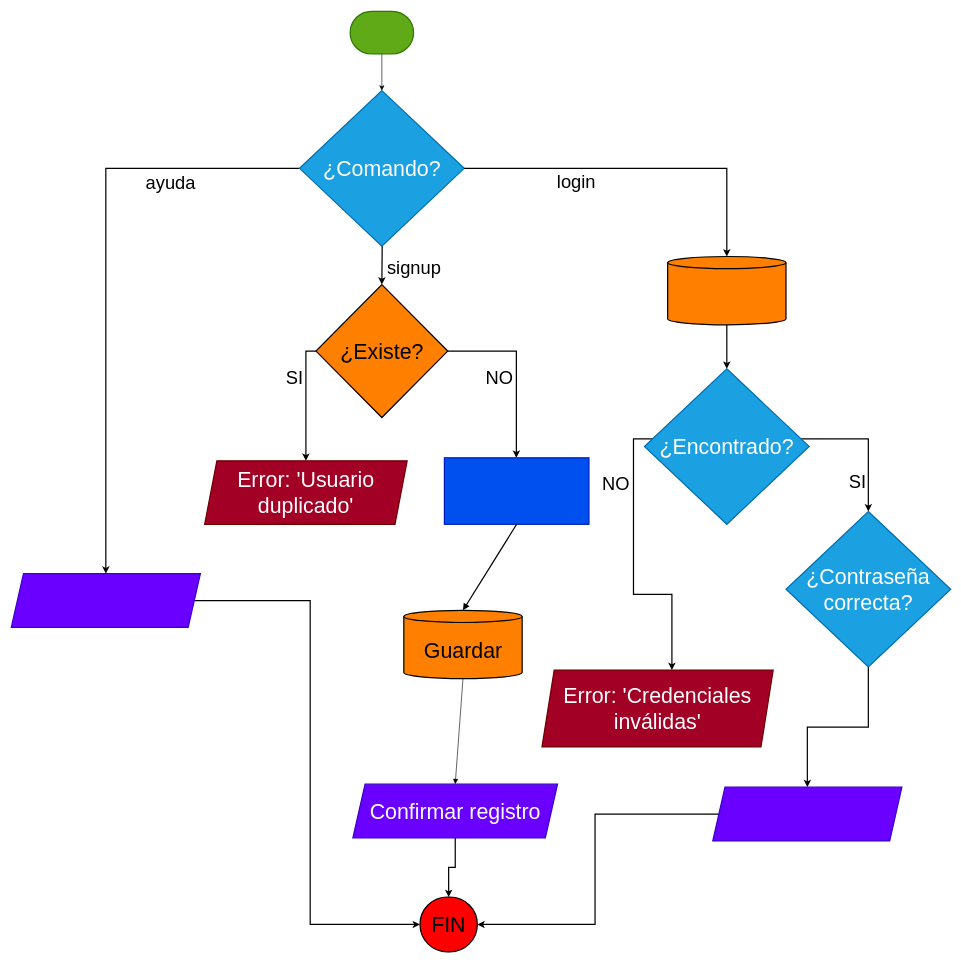
Some shapes in this 961 by 963 pixel diagram are drawn without their labels. The box of each missing label's shape, as (x1, y1, x2, y2) in pixels:
Buscar: (667, 256, 786, 325)
Encriptar contraseña: (443, 457, 589, 525)
Iniciar Sesion: (712, 786, 902, 841)
Inicio: (349, 10, 414, 54)
Mostrar Ayuda: (10, 573, 201, 628)
